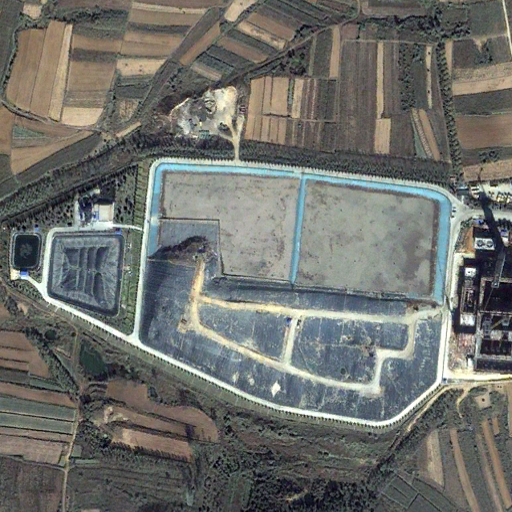lf: (141, 231, 445, 423)
